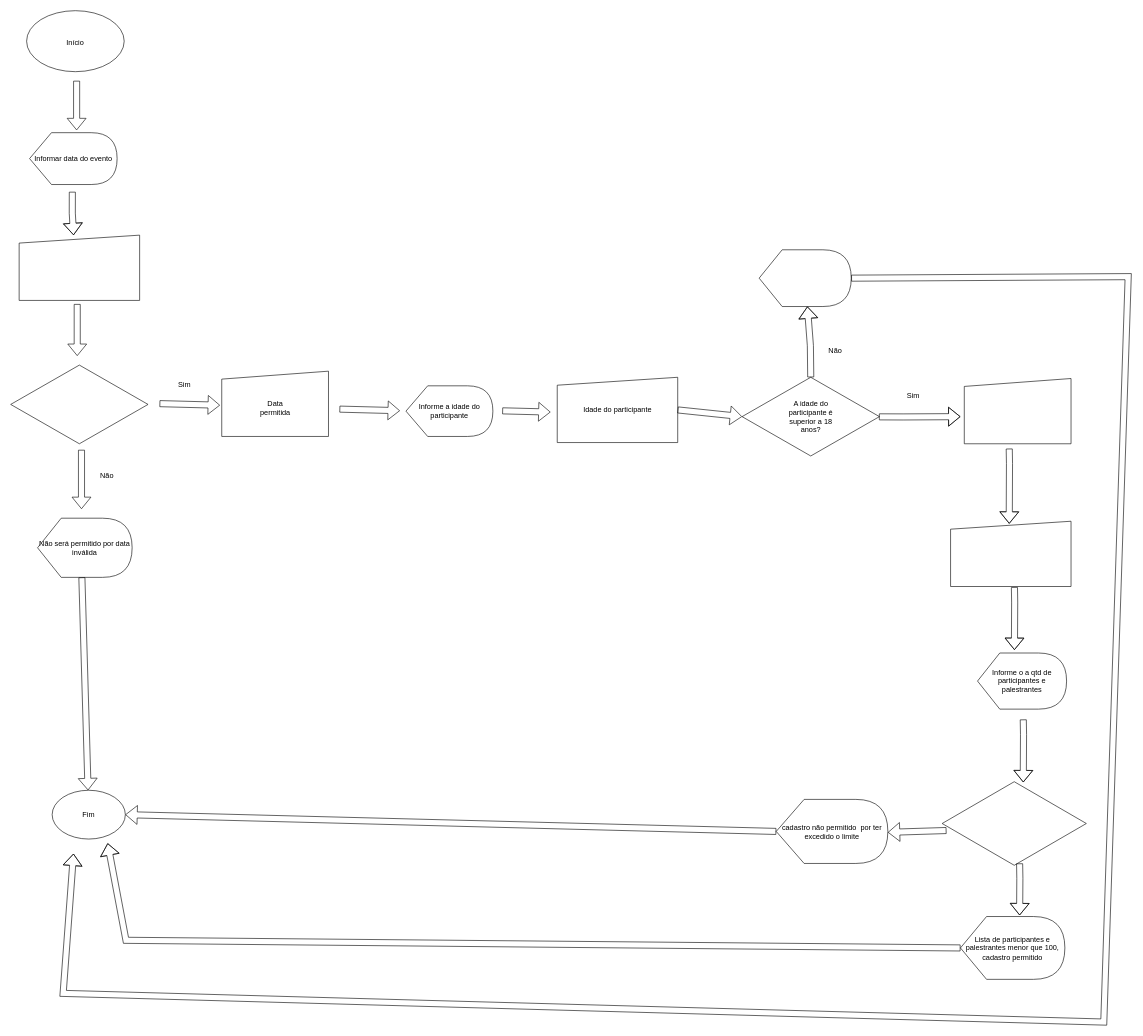
This 1143x1036 diagram has some shape labels left out. The centre of each missing label's shape, as x and y in pixels:
"a qtd de participantes e palestrantes é inferior a 100?" belongs at (x=1014, y=823).
"Cadastro não permitido pela idade" belongs at (x=805, y=278).
"Data do evento" belongs at (x=79, y=267).
"Dia do evento não será posterio a data atual?" belongs at (x=79, y=404).
"Idade do participante permitida" belongs at (x=1017, y=411).
"Lista de participantes e palestrantes por eventos" belongs at (x=1010, y=554).
